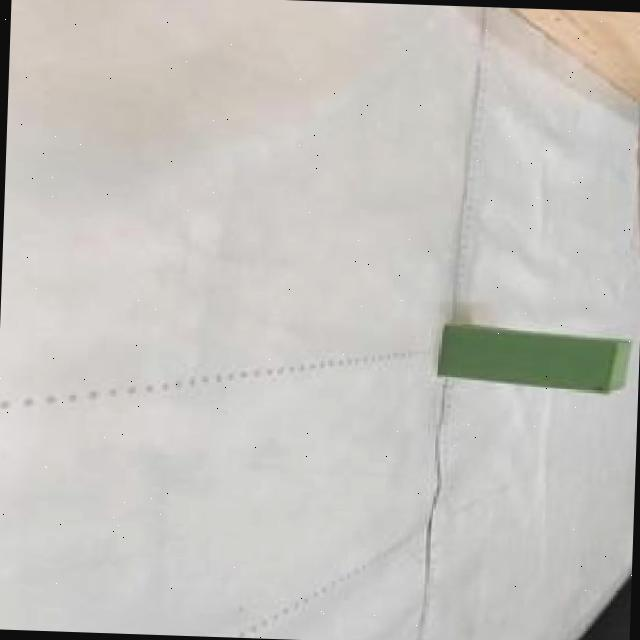greenbox: (432, 322, 624, 391)
